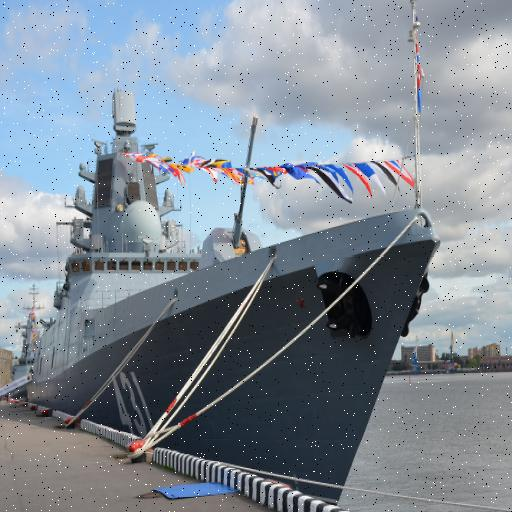Fragata: (31, 82, 445, 512)
